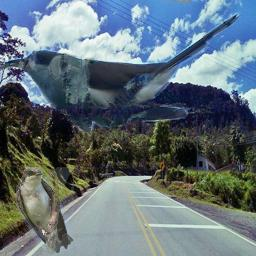Cuckoo: (0, 11, 247, 134)
Swallow: (16, 167, 74, 254)
